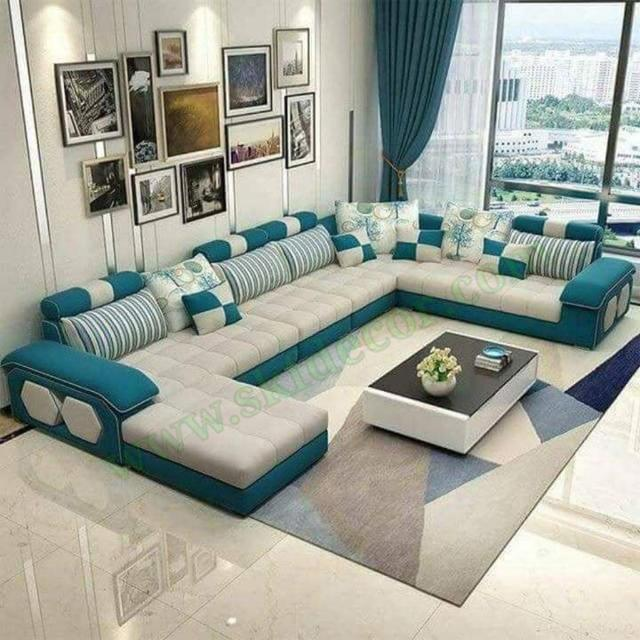sofa: (1, 198, 636, 518)
